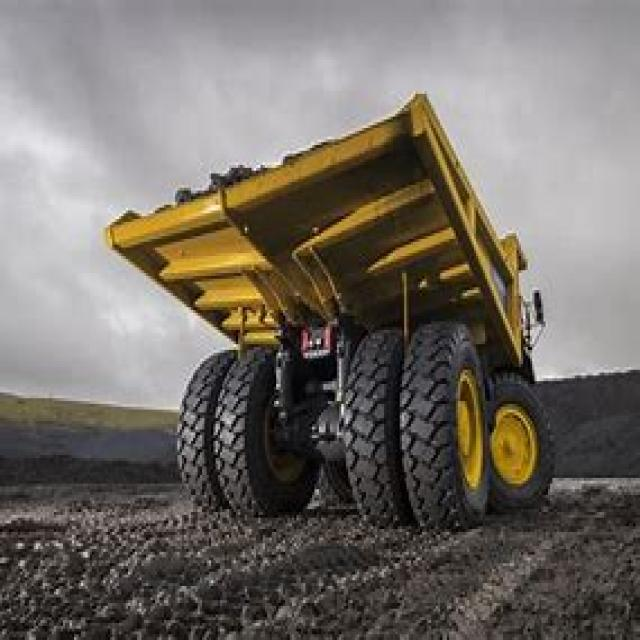dump_truck: (61, 83, 570, 546)
